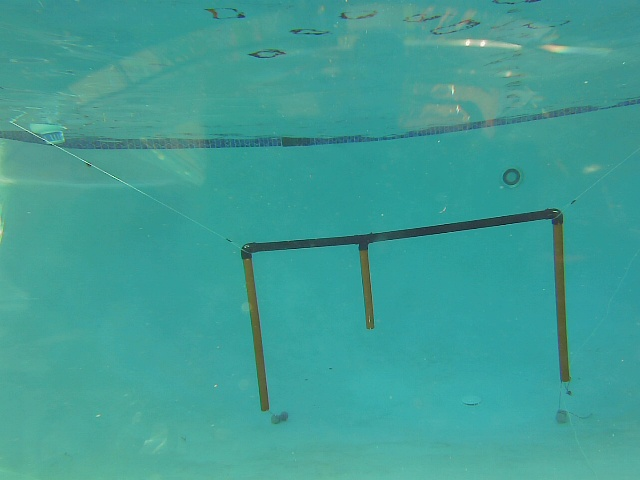Gate: (241, 254, 272, 416), (548, 222, 572, 384), (357, 245, 377, 333)
